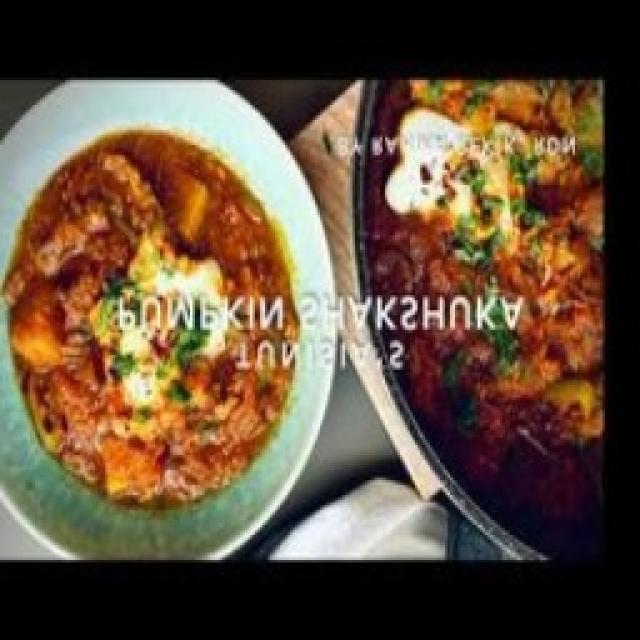Chakchouka: (0, 81, 604, 560)
